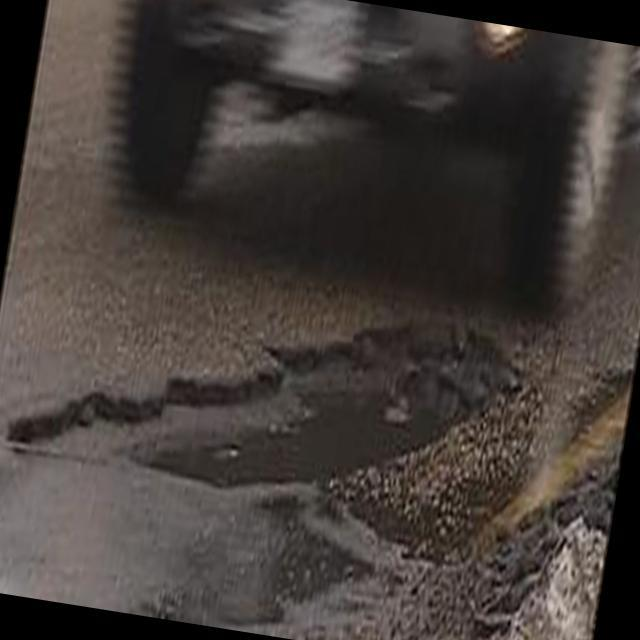Pothole: (252, 301, 520, 515)
